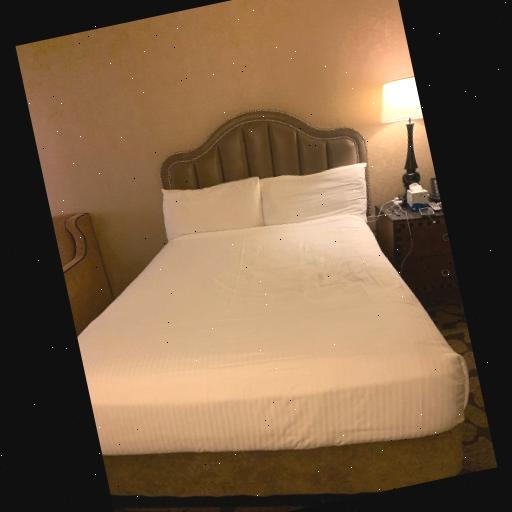chair: (55, 215, 116, 333)
clean_bed: (76, 110, 464, 498)
lamp: (360, 76, 440, 214)
organised_pillow: (160, 162, 369, 242)
